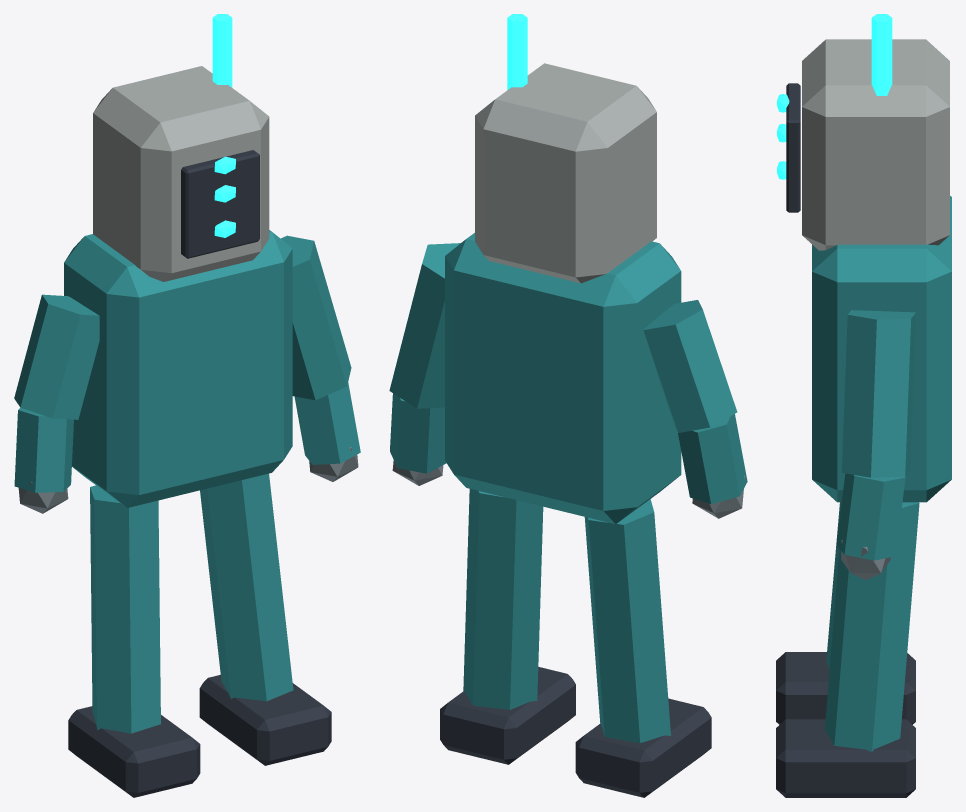
Rendered from npcs_015_seed11.glb.
3 renders of one model, left to right at view 1: azimuth 30°, elevation 25°; view 2: azimuth 150°, elevation 25°; view 3: azimuth 270°, elevation 25°, orthographic. The views are drawn at different scales.
Visible parts, largest first — view 1: npcs_015_seed11; view 2: npcs_015_seed11; view 3: npcs_015_seed11.
Boxes of the visible parts, x1,y1,x2,y2 form: npcs_015_seed11: (14,14,360,797); npcs_015_seed11: (389,14,747,797); npcs_015_seed11: (776,14,951,797).
Bounding box in the file's own units: 1.03 × 2.08 × 0.4406.
